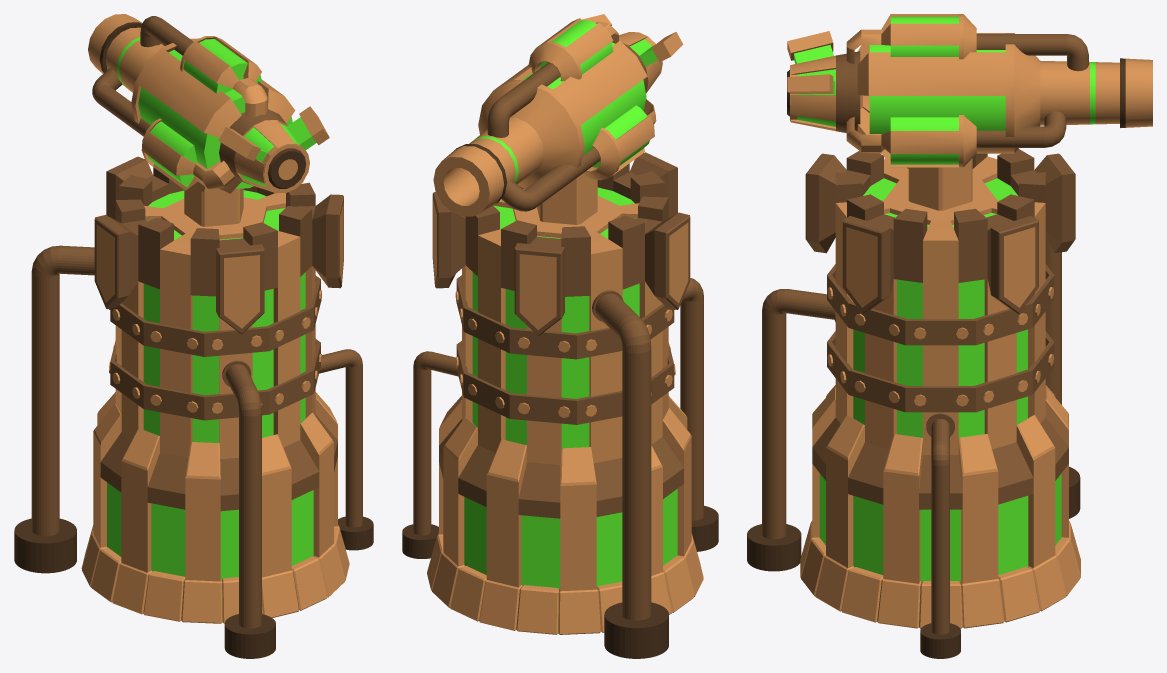
Rendered from PoisonTower_1.fbx.
The picture shows the model from 3 angles, left to right: view 1: azimuth 30°, elevation 25°; view 2: azimuth 150°, elevation 25°; view 3: azimuth 270°, elevation 25°; orthographic projection. The views are drawn at different scales.
Visible parts, largest first — view 1: Tower, shotpoint, senter; view 2: Tower, shotpoint, senter; view 3: Tower, shotpoint, senter.
Part boxes in pixels (<box>): Tower: <box>14,156,373,658</box>; shotpoint: <box>88,14,329,193</box>; senter: <box>138,49,292,188</box>; Tower: <box>402,152,718,658</box>; shotpoint: <box>433,14,683,216</box>; senter: <box>522,42,646,155</box>; Tower: <box>747,149,1080,658</box>; shotpoint: <box>787,14,1152,167</box>; senter: <box>869,45,1005,133</box>.
Size of the model in its own units: 172 by 291 by 189.
